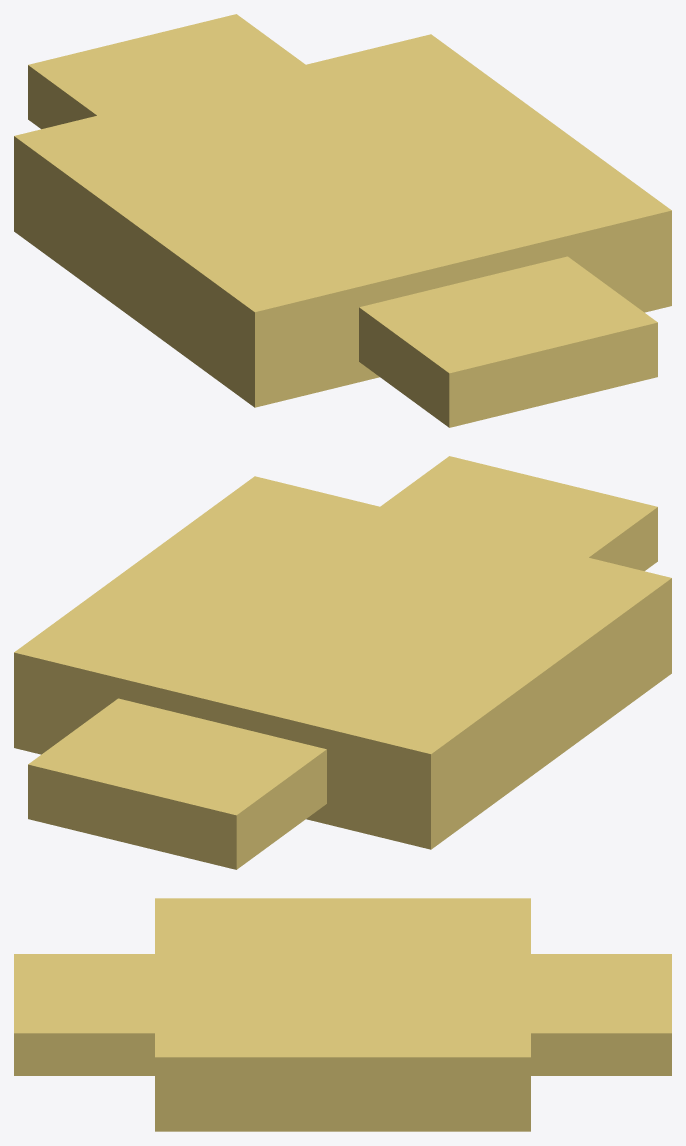
File: chronos_tourbillon_watch.glb
3 renders of one model, top to bottom at view 1: azimuth 30°, elevation 25°; view 2: azimuth 150°, elevation 25°; view 3: azimuth 270°, elevation 25°, orthographic. The views are drawn at different scales.
Parts seen in each view (by area): view 1: GTEX_Asset_Root; view 2: GTEX_Asset_Root; view 3: GTEX_Asset_Root.
Part boxes in pixels (bbox=[...]): GTEX_Asset_Root: bbox=[14, 14, 671, 427]; GTEX_Asset_Root: bbox=[14, 456, 671, 869]; GTEX_Asset_Root: bbox=[14, 898, 671, 1131].
Size of the model in its own units: 1.6 by 0.35 by 2.8.
